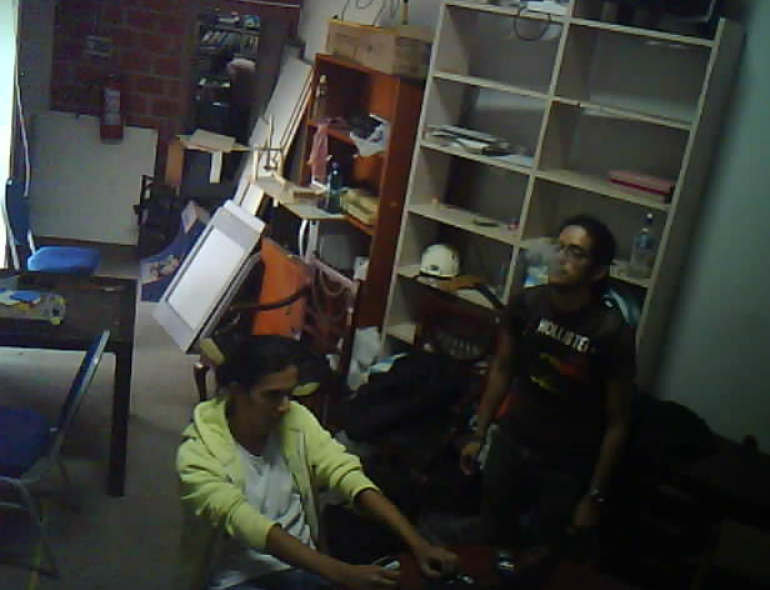person: (146, 309, 478, 590), (449, 176, 652, 577), (195, 31, 281, 150)
